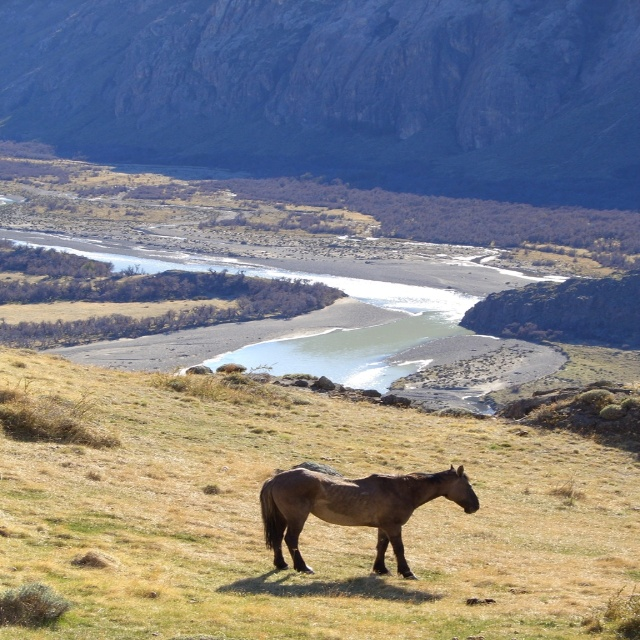Horse: (256, 464, 478, 579)
